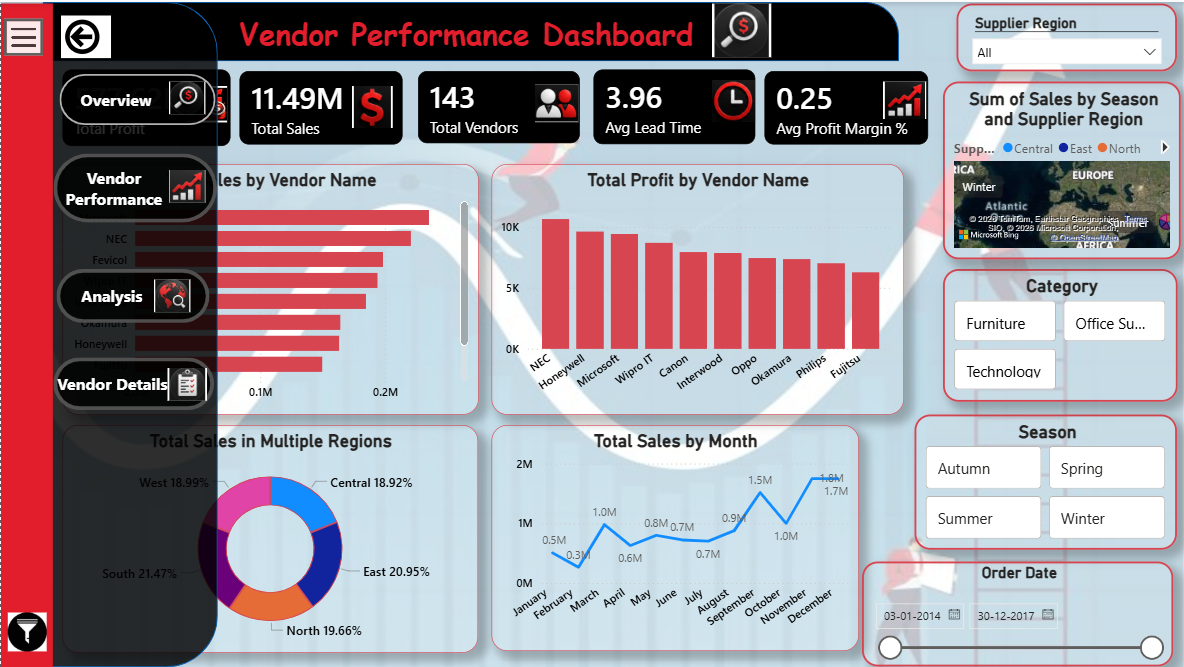

Layout of this report page (visuals, bound fields, positions):
{"tool":"powerbi","page":{"name":"Overview","canvas":[1280,720],"ordinal":0},"visuals":[{"type":"actionButton","title":"Menu","box":[4,18,42,40],"z":0,"group":"g1"},{"type":"cardVisual","fields":{"Data":["vendor_superstore.Total Sales"]},"box":[258.2,75,176,79.3],"z":0},{"type":"cardVisual","fields":{"Data":["vendor_superstore.Total Vendors"]},"box":[449.4,74.7,174.9,77.7],"z":1000},{"type":"image","title":"Filter","box":[0,660,56,42],"z":1000,"group":"g1"},{"type":"cardVisual","fields":{"Data":["vendor_superstore.Avg Lead Time"]},"box":[639.6,73.2,174.9,81],"z":2000},{"type":"cardVisual","fields":{"Data":["vendor_superstore.Avg Profit Margin %"]},"box":[824.2,74.5,176.5,79.3],"z":3000},{"type":"actionButton","title":"Closebutton","box":[62,14,54,46],"z":4000},{"type":"clusteredBarChart","title":"Top Sales by Vendor Name","fields":{"Category":["vendor_superstore.Vendor Name"],"Y":["vendor_superstore.Total Sales"]},"box":[66.7,174.5,449.1,270.6],"z":5000},{"type":"columnChart","fields":{"Y":["vendor_superstore.Total Profit"],"Category":["vendor_superstore.Vendor Name"]},"box":[529.5,174.5,445.2,270.6],"z":6000},{"type":"lineChart","fields":{"Category":["vendor_superstore.Order Date.Variation.Date Hierarchy.Month"],"Y":["vendor_superstore.Total Sales"]},"box":[528.9,456.3,396.7,244],"z":7000},{"type":"slicer","title":"Supplier Region","fields":{"Values":["vendor_superstore.Supplier Region"]},"box":[1031.8,1.9,238.1,73],"z":8000},{"type":"advancedSlicerVisual","fields":{"Values":["vendor_superstore.Season"]},"box":[986.5,445,283.5,146],"z":9000},{"type":"advancedSlicerVisual","fields":{"Values":["vendor_superstore.Category"]},"box":[1016.8,288,253.3,143.4],"z":10000},{"type":"donutChart","fields":{"Category":["vendor_superstore.Supplier Region"],"Y":["Sum(vendor_superstore.Sales)"]},"box":[67,456.3,448.8,245.8],"z":11000},{"type":"shape","box":[46,0,924,64],"z":12000},{"type":"slicer","title":"Order Date","fields":{"Values":["vendor_superstore.Order Date"]},"box":[929.3,603.4,336,113.6],"z":13000},{"type":"cardVisual","fields":{"Data":["vendor_superstore.Total Profit"]},"box":[66.4,72.9,181.4,82.6],"z":14000},{"type":"image","box":[200,90.2,43.1,39.2],"z":14500},{"type":"shape","box":[0,2,56,718],"z":16000},{"type":"map","fields":{"Category":["vendor_superstore.Season"],"Size":["Sum(vendor_superstore.Sales)"],"Series":["vendor_superstore.Supplier Region"]},"box":[1016.8,86,257,191.8],"z":17000},{"type":"group","id":"g1","title":"Menu bar","box":[0,18,56,684],"z":18000},{"type":"image","box":[767.5,84.2,47,45.3],"z":19000},{"type":"image","box":[952.1,85.8,47,40.5],"z":20000},{"type":"image","box":[378.9,90.7,43.7,45.3],"z":21000},{"type":"image","box":[576.4,89.1,47,40.5],"z":22000},{"type":"image","box":[767.3,1.9,65.2,57.7],"z":23000}]}

Visuals, with their boxes in screenshot pixels (x1, y1, x2, y2), scaled from the page's 1280x720 canvas onto the 1184x667 screenshot:
"Menu" actionButton: bbox=[4, 17, 43, 54]
cardVisual - vendor_superstore.Total Sales: bbox=[239, 69, 402, 143]
cardVisual - vendor_superstore.Total Vendors: bbox=[416, 69, 577, 141]
"Filter" image: bbox=[0, 611, 52, 650]
cardVisual - vendor_superstore.Avg Lead Time: bbox=[592, 68, 753, 143]
cardVisual - vendor_superstore.Avg Profit Margin %: bbox=[762, 69, 926, 142]
"Closebutton" actionButton: bbox=[57, 13, 107, 56]
"Top Sales by Vendor Name" clusteredBarChart: bbox=[62, 162, 477, 412]
columnChart - vendor_superstore.Total Profit x vendor_superstore.Vendor Name: bbox=[490, 162, 902, 412]
lineChart - vendor_superstore.Order Date.Variation.Date Hierarchy.Month x vendor_superstore.Total Sales: bbox=[489, 423, 856, 649]
"Supplier Region" slicer: bbox=[954, 2, 1175, 69]
advancedSlicerVisual - vendor_superstore.Season: bbox=[913, 412, 1175, 547]
advancedSlicerVisual - vendor_superstore.Category: bbox=[941, 267, 1175, 400]
donutChart - vendor_superstore.Supplier Region x Sum(vendor_superstore.Sales): bbox=[62, 423, 477, 650]
shape: bbox=[43, 0, 897, 59]
"Order Date" slicer: bbox=[860, 559, 1170, 664]
cardVisual - vendor_superstore.Total Profit: bbox=[61, 68, 229, 144]
image: bbox=[185, 84, 225, 120]
shape: bbox=[0, 2, 52, 666]
map - vendor_superstore.Season x Sum(vendor_superstore.Sales): bbox=[941, 80, 1178, 257]
"Menu bar" group: bbox=[0, 17, 52, 650]
image: bbox=[710, 78, 753, 120]
image: bbox=[881, 79, 924, 117]
image: bbox=[350, 84, 391, 126]
image: bbox=[533, 83, 577, 120]
image: bbox=[710, 2, 770, 55]
